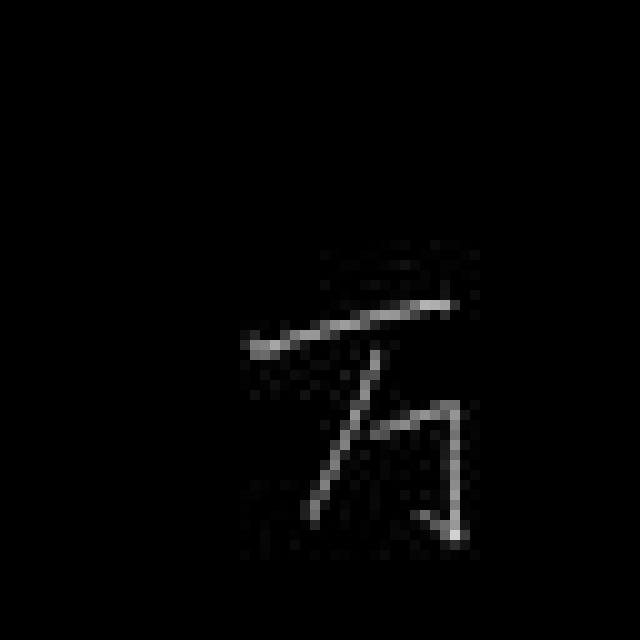10000 -a ten thousand-: (229, 280, 481, 570)
